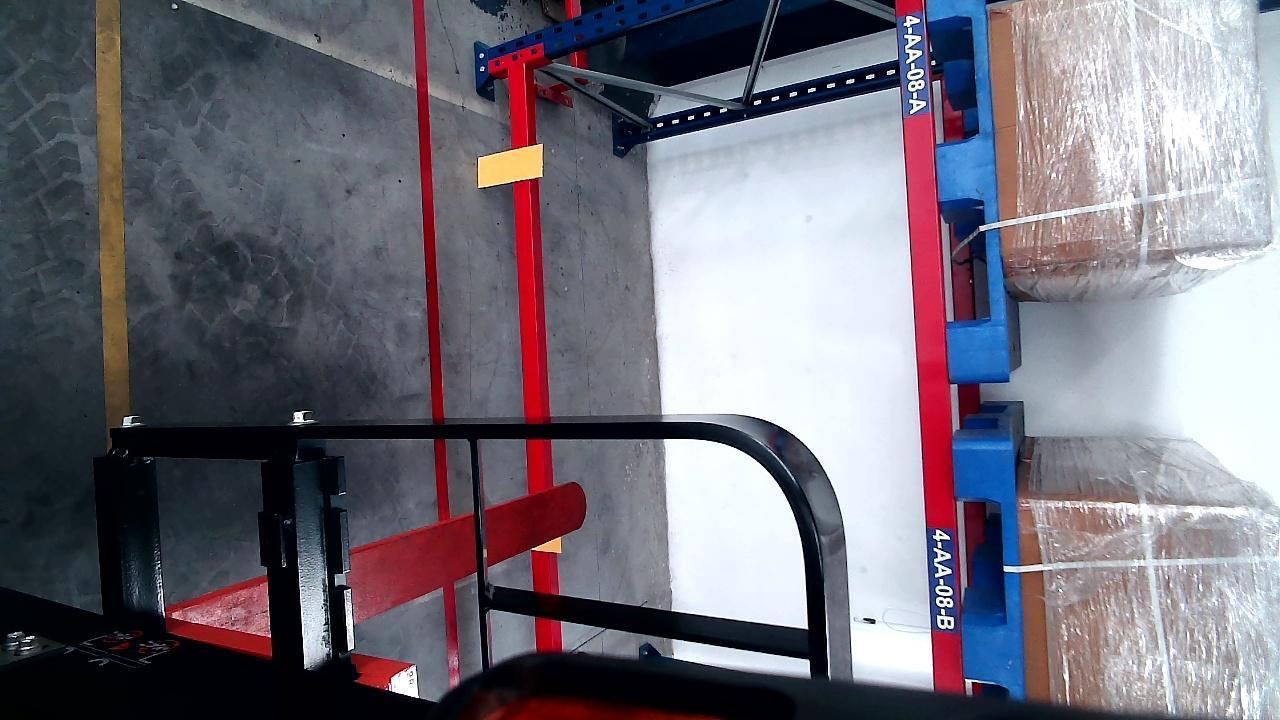h_rack: (899, 0, 961, 691), (507, 68, 561, 647)
orange_strip: (476, 146, 541, 186)
red_line: (414, 0, 466, 693)
small_pallet: (928, 0, 1014, 376), (958, 442, 1023, 699)
yellow_line: (98, 1, 129, 417)
